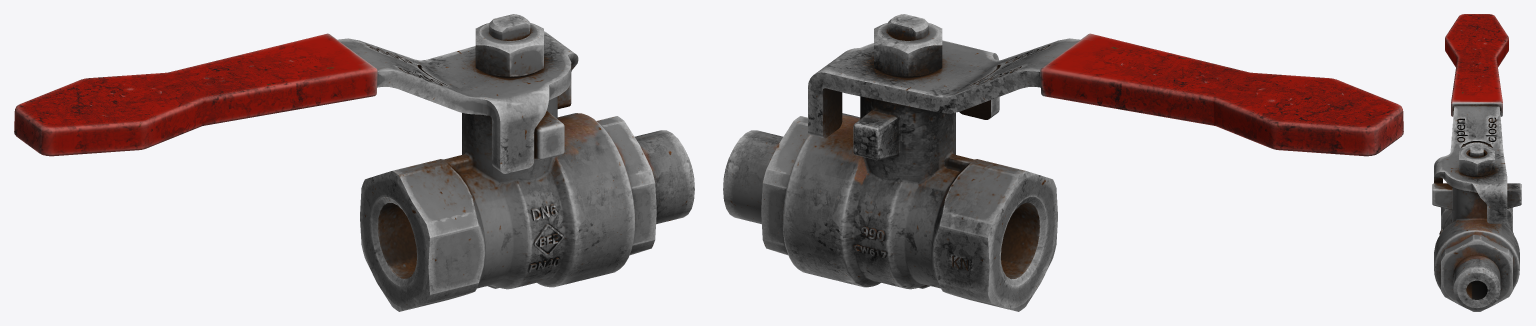
The model's file is velve.fbx.
The picture shows the model from 3 angles, left to right: view 1: azimuth 30°, elevation 25°; view 2: azimuth 150°, elevation 25°; view 3: azimuth 270°, elevation 25°; orthographic projection. The views are drawn at different scales.
Visible parts, largest first — view 1: IDvalve_990_1_1_4_000; view 2: IDvalve_990_1_1_4_000; view 3: IDvalve_990_1_1_4_000.
Part boxes in pixels (x1,y1,x2,y2): IDvalve_990_1_1_4_000: (14, 14, 694, 311); IDvalve_990_1_1_4_000: (723, 14, 1403, 311); IDvalve_990_1_1_4_000: (1432, 14, 1521, 311).
Size of the model in its own units: 109 by 46.31 by 25.
